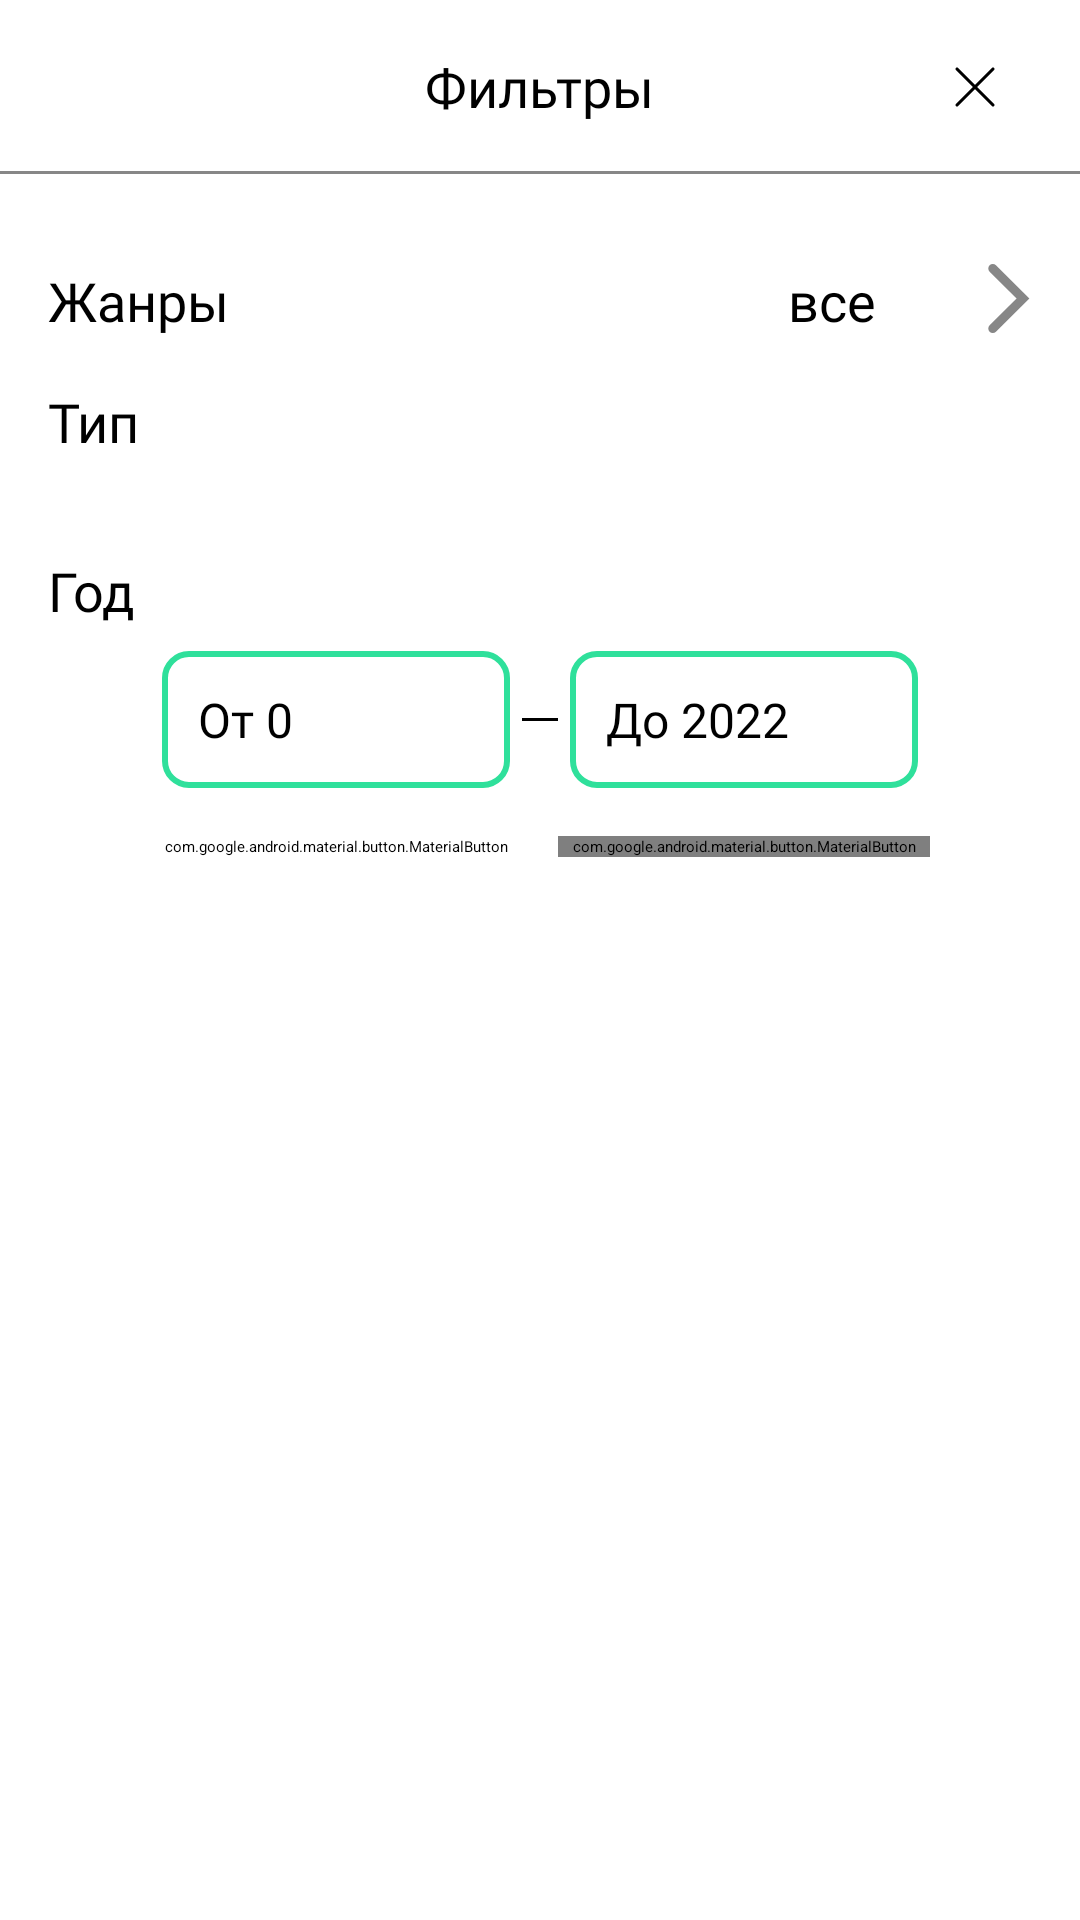

Where to tap for icons on this 1080 x 1920 app screen, as (x=x, y=y):
close: (x=975, y=87)
open: (x=1008, y=298)
